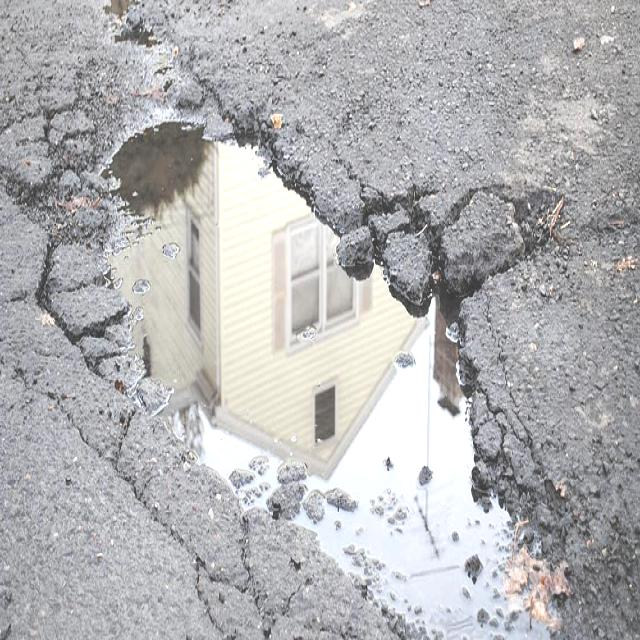Pothole: (14, 69, 638, 640)
